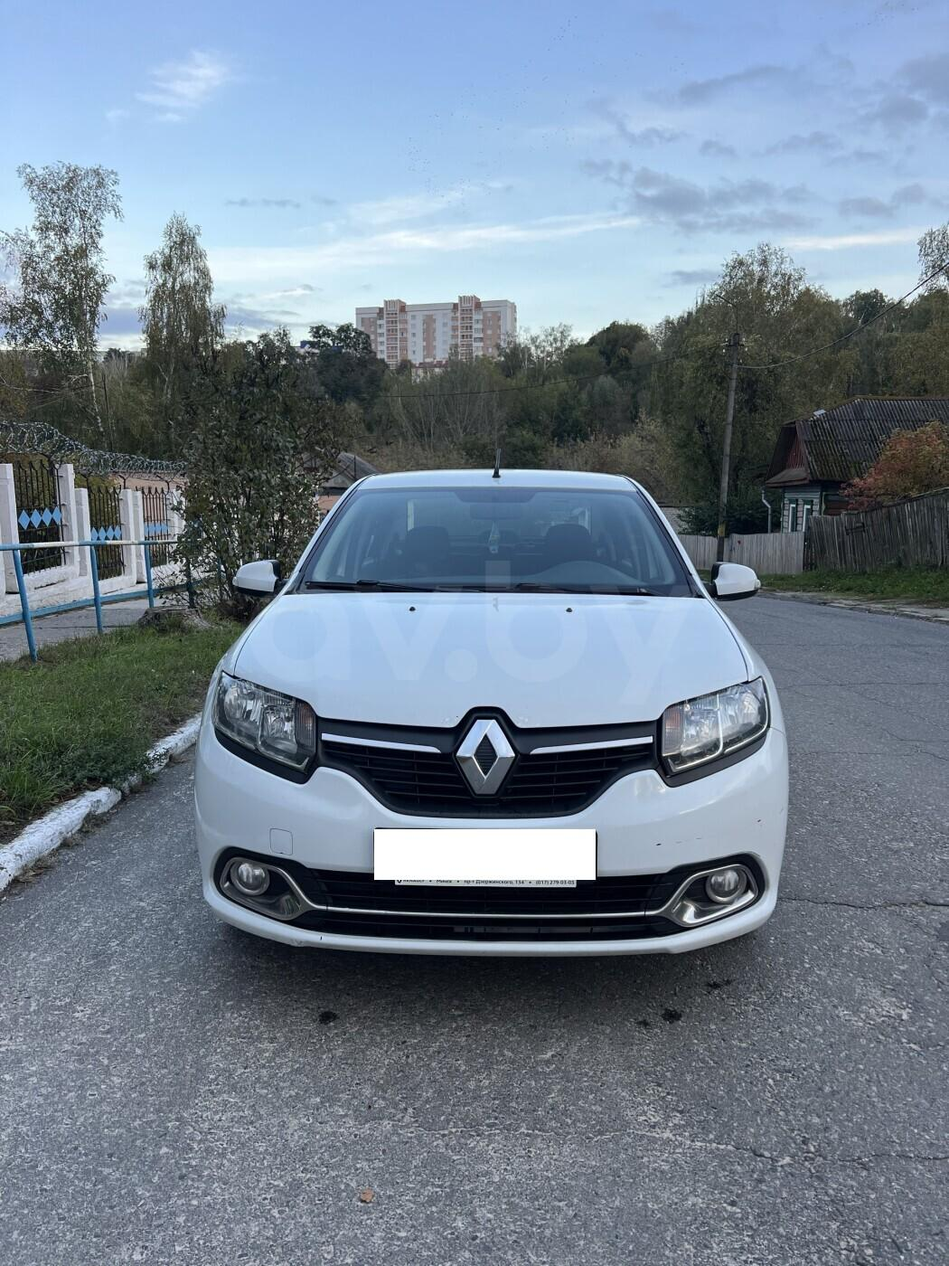Logan_2013-2018: (172, 461, 799, 969)
